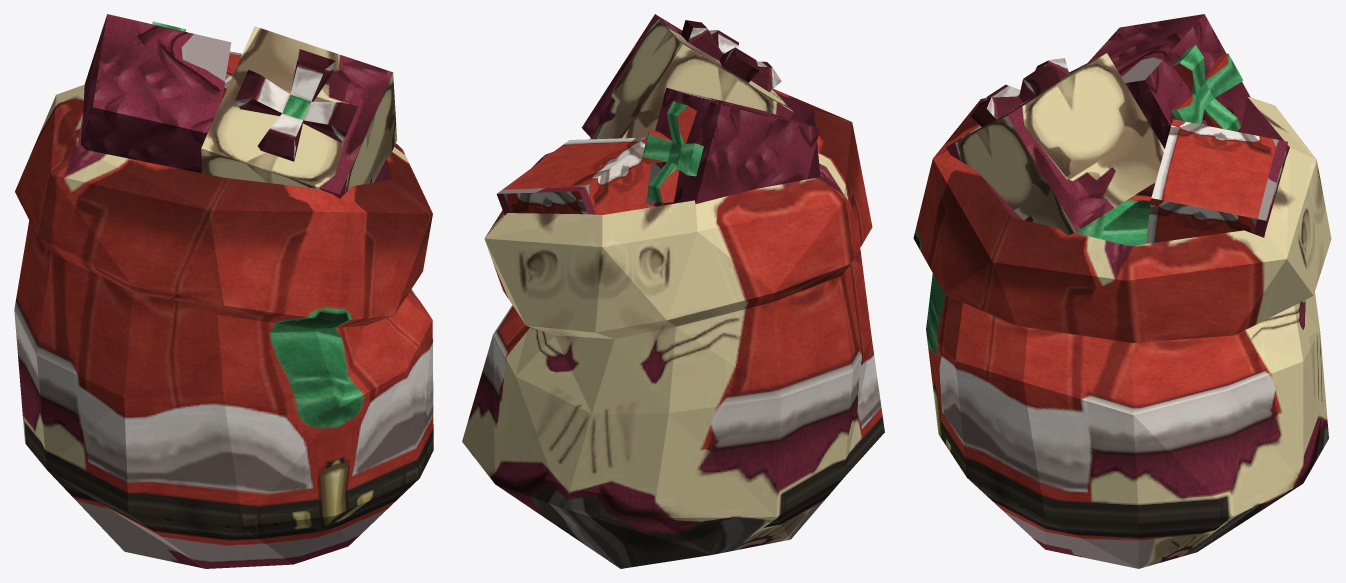
Rendered from Monkey_santaBag.obj.
The picture shows the model from 3 angles, left to right: view 1: azimuth 30°, elevation 25°; view 2: azimuth 150°, elevation 25°; view 3: azimuth 270°, elevation 25°; orthographic projection. The views are drawn at different scales.
Visible parts, largest first — view 1: Monkey_santaBag_tri; view 2: Monkey_santaBag_tri; view 3: Monkey_santaBag_tri.
Boxes of the visible parts, x1,y1,x2,y2 form: Monkey_santaBag_tri: (14,14,433,568); Monkey_santaBag_tri: (462,14,884,568); Monkey_santaBag_tri: (913,14,1331,568).
Size of the model in its own units: 0.376 by 0.5169 by 0.3921.
Materials: 1 (1 with a texture image).
